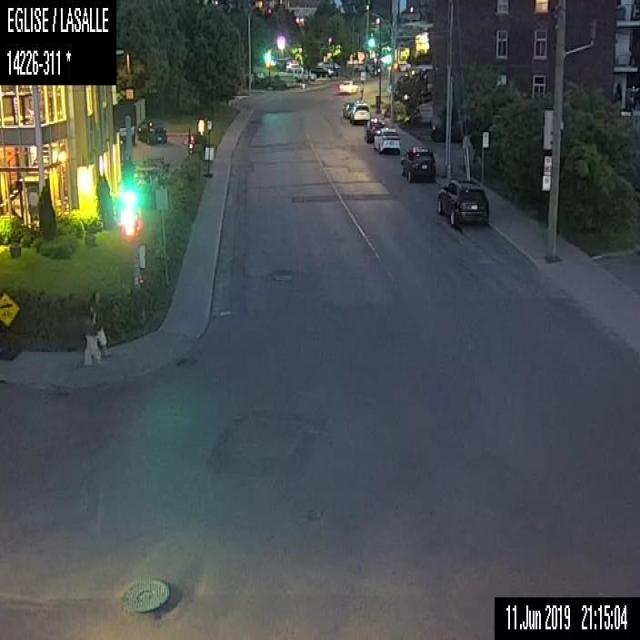pedestrian: (89, 288, 109, 354), (84, 306, 100, 366)
vehicle: (435, 177, 487, 227), (398, 145, 436, 183), (136, 116, 166, 145), (373, 127, 400, 153), (363, 117, 384, 141), (350, 101, 370, 125), (292, 65, 315, 80), (338, 78, 358, 94), (310, 64, 334, 77), (342, 100, 358, 117)
